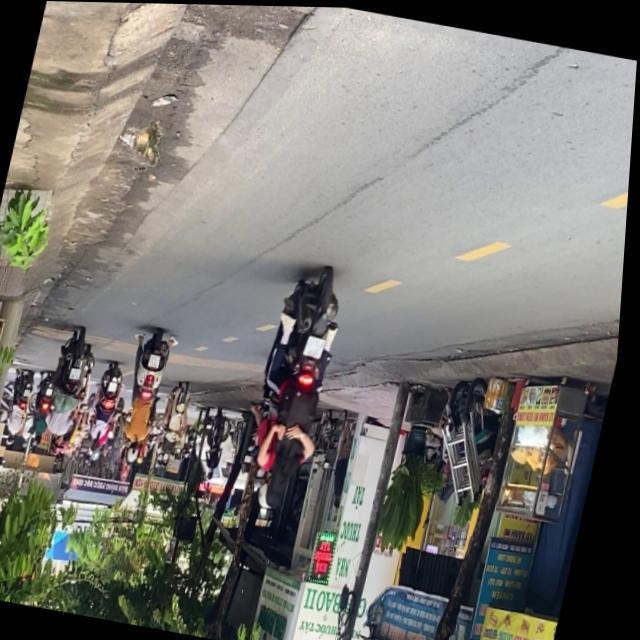helmet: (260, 469, 284, 511)
licenseplate: (239, 260, 361, 520)
motorcyclist: (270, 461, 301, 511)
nohelmet: (309, 336, 331, 359)
